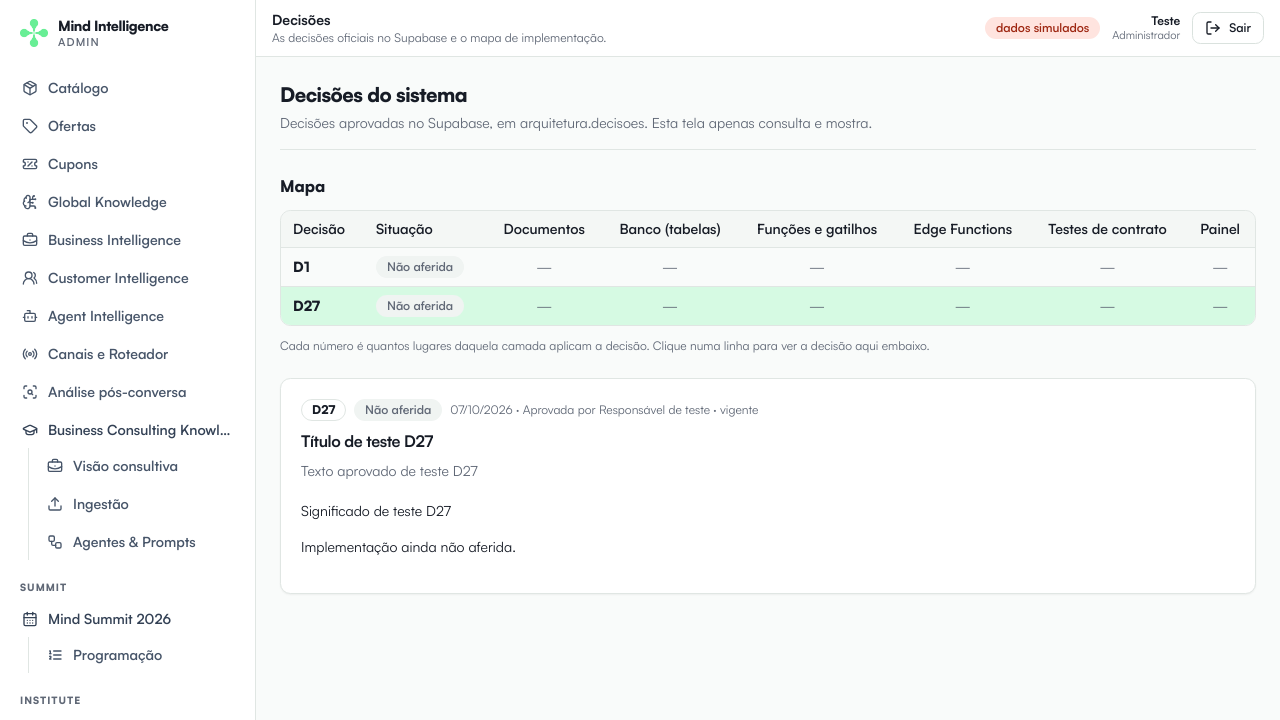
decisões oficiais › mostra os registros recebidos e abre qualquer código pelo endereço
The width and height of the screenshot is (1280, 720).
Expected: the heading "Título de teste D27" is shown, 301,431 -> 433,451
Expected: the column heading "D27" is shown, 281,286 -> 364,325
Click the button "D1" at (301, 267), box 293,257 -> 310,277
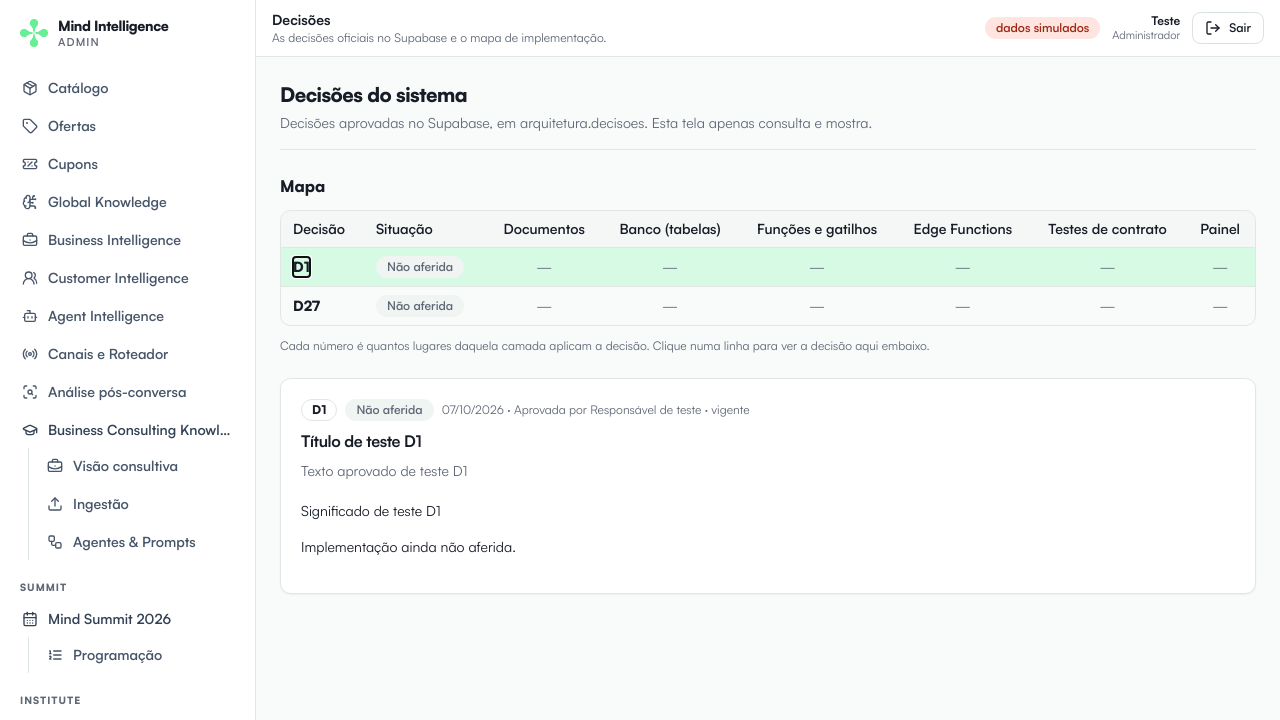
Now the heading "Título de teste D1" is shown, box 301,431 -> 422,451
